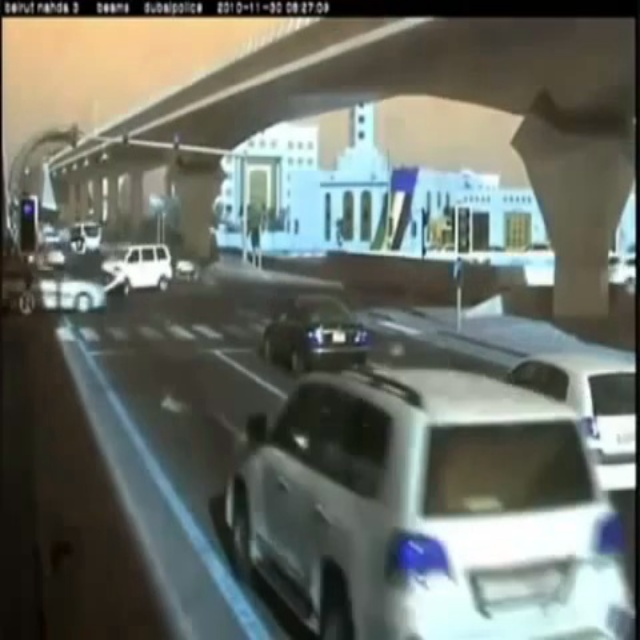acc: (28, 227, 141, 334)
